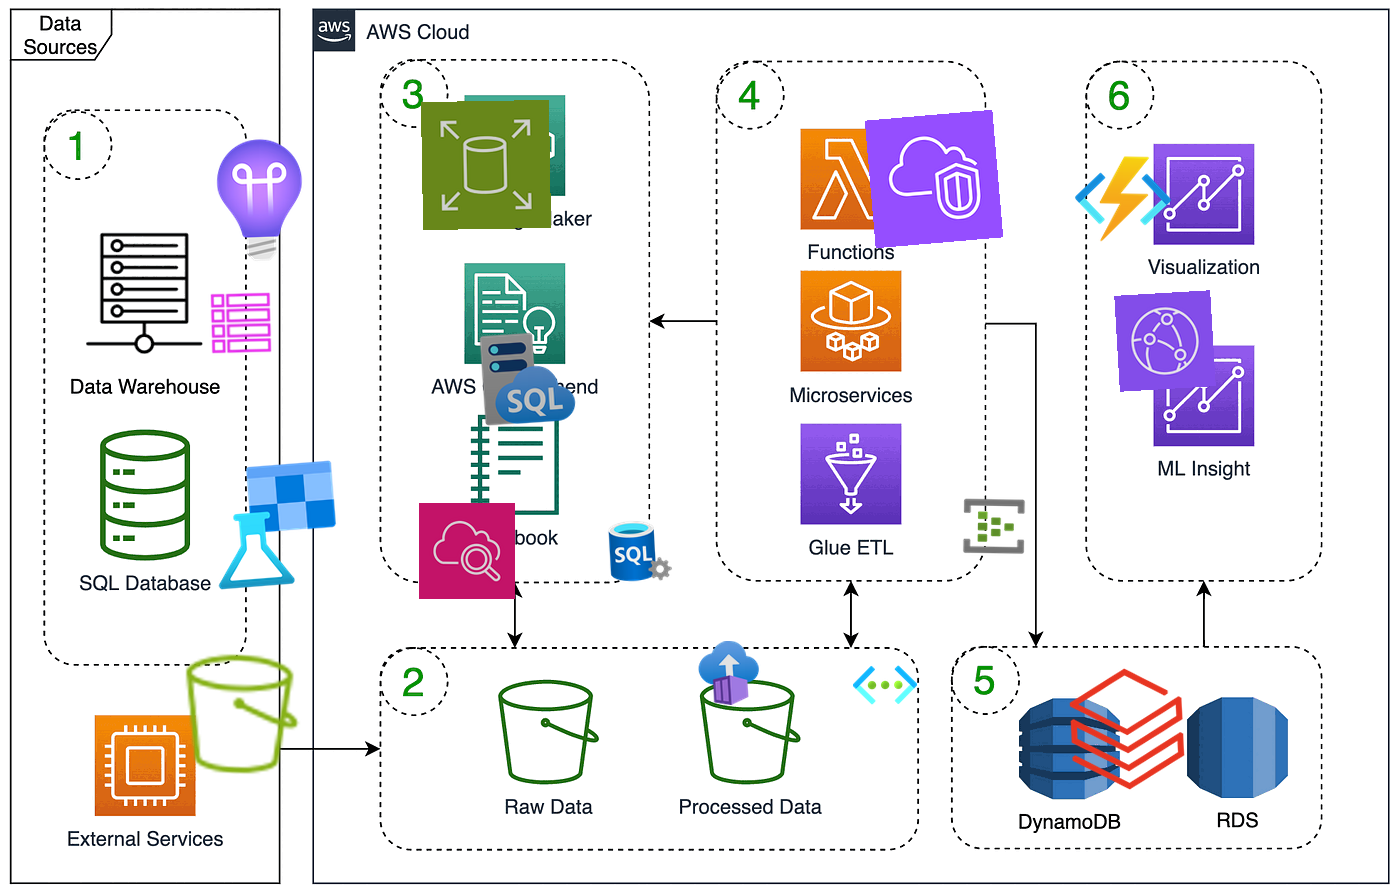aws_amazon_cloudfront: (1114, 290, 1216, 392)
aws_amazon_cloudwatch: (418, 502, 516, 600)
aws_amazon_elastic_block_store: (420, 99, 552, 231)
aws_amazon_virtual_private_cloud: (864, 109, 1004, 249)
aws_dynamodb_table: (208, 290, 274, 356)
aws_simple_storage_service_s3_standard: (174, 647, 308, 781)
azure_application_insights: (193, 133, 327, 267)
azure_container_instances: (695, 639, 763, 707)
azure_databricks: (1059, 661, 1195, 797)
azure_event_hubs: (961, 493, 1027, 559)
azure_function_apps: (1073, 149, 1173, 249)
azure_machine_learning_studio_workspaces: (206, 456, 344, 594)
azure_sql_managed_instance: (476, 326, 580, 430)
azure_sql_server: (606, 517, 674, 585)
azure_virtual_networks: (852, 652, 918, 718)
